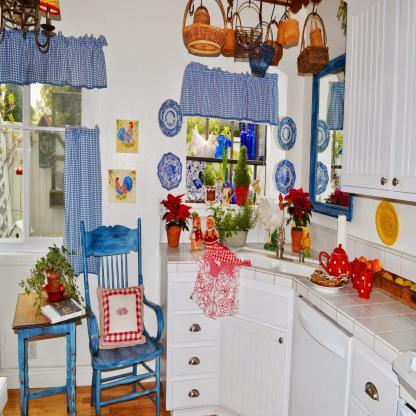chair: (78, 214, 167, 416)
table: (12, 282, 83, 416)
